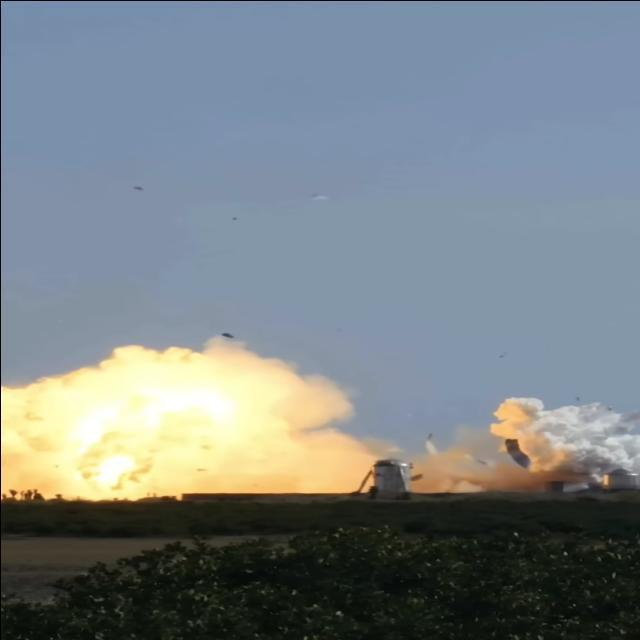Missile: (426, 426, 435, 447)
